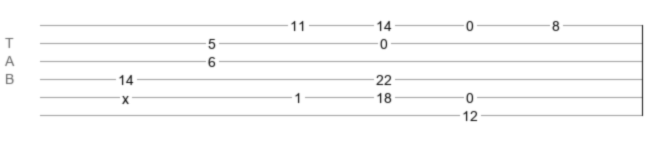0: (380, 36, 388, 46), (466, 90, 474, 100), (466, 18, 474, 28)
1: (294, 90, 302, 100)
11: (290, 18, 306, 28)
12: (462, 108, 478, 118)
14: (118, 72, 134, 82), (376, 18, 392, 28)
18: (376, 90, 392, 100)
22: (376, 72, 392, 82)
5: (208, 36, 216, 46)
6: (208, 54, 216, 64)
8: (552, 18, 560, 28)
x: (122, 91, 129, 99)
